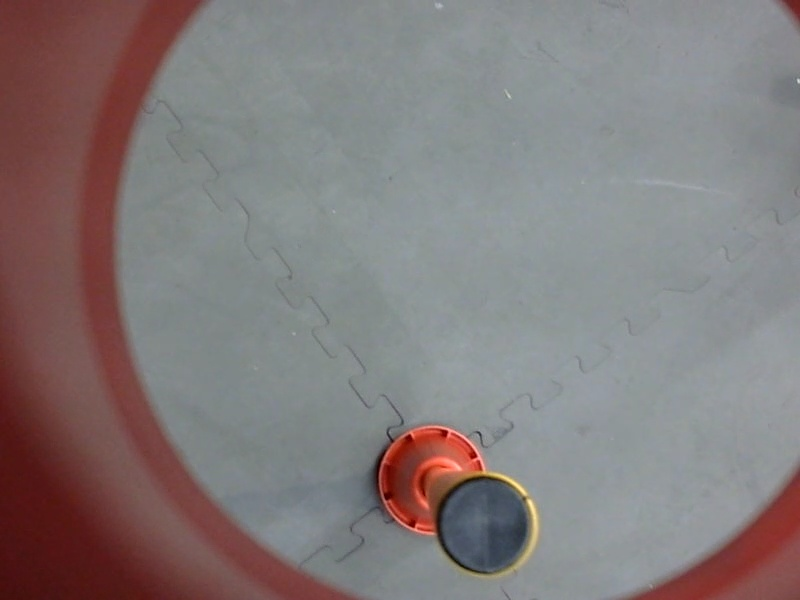tip: (429, 469, 544, 587)
